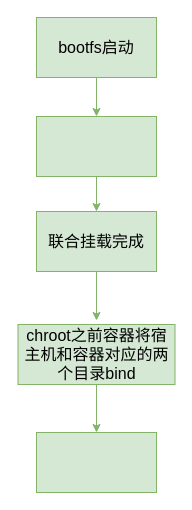
Some shapes in this 192 by 510 pixel diagram are drawn without their labels. The box of each missing label's shape, as (x1, y1, x2, y2) in pixels:
chroot: (36, 432, 156, 492)
rootfs准备好: (36, 116, 156, 176)
